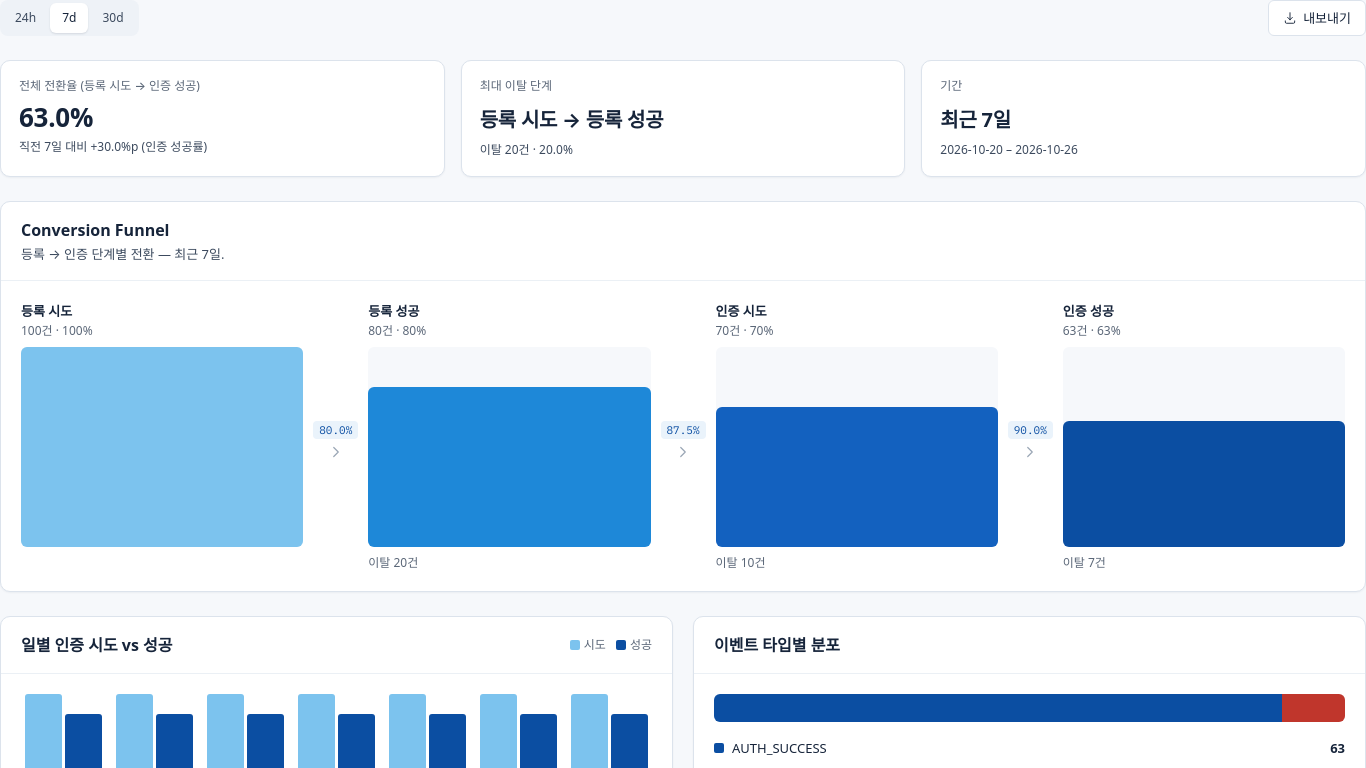
Test: FunnelTab V2 › 기간 전환 후 새 요청이 실패하면 이전 기간 숫자 대신 LoadError
The width and height of the screenshot is (1366, 768).
Check: the text "63.0%" is shown, box [19,99,93,135]
Click the button "30d".
click(113, 18)  # box [90,3,136,33]
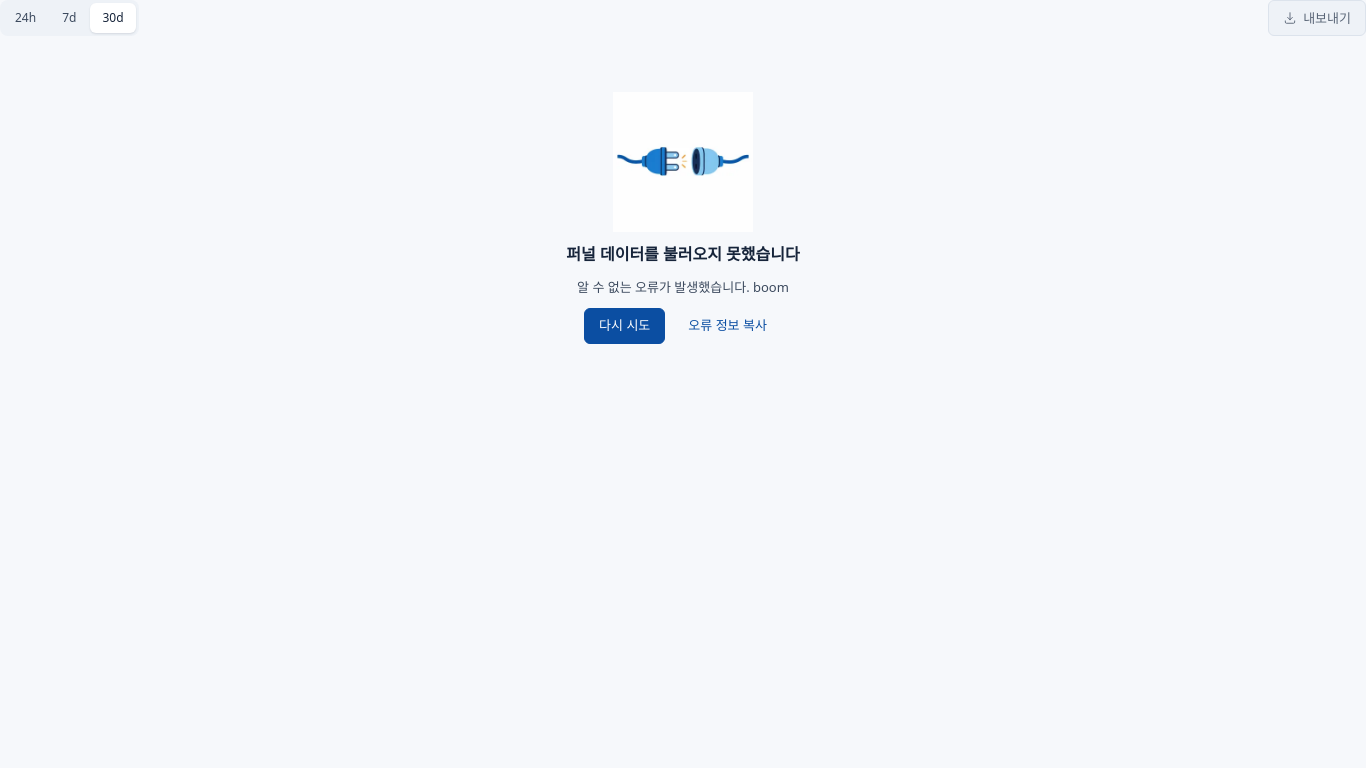
Check: the message shows "퍼널 데이터를 불러오지 못했습니다", box [566,92,800,344]
Check: the text "63.0%" is gone
Check: the text "최근 7일" is gone
